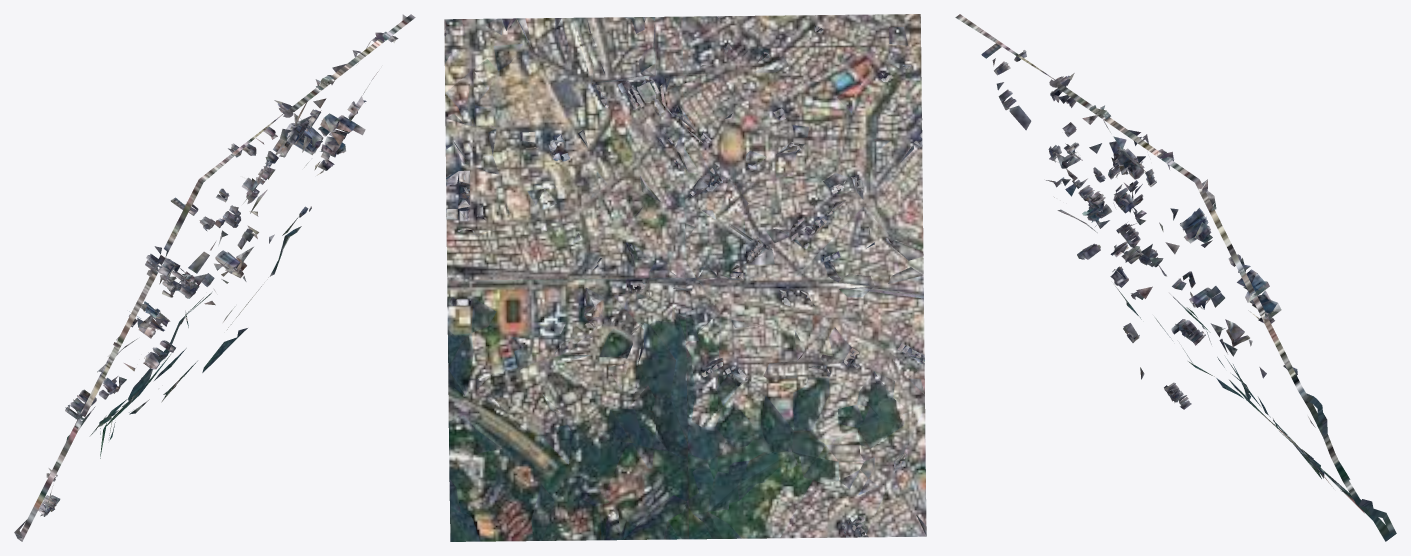
3 renders of one model, left to right at view 1: azimuth 30°, elevation 25°; view 2: azimuth 150°, elevation 25°; view 3: azimuth 270°, elevation 25°, orthographic. The views are drawn at different scales.
Bounding box in the file's own units: 2455 × 2258 × 2137.
2 materials, 2 textured.
